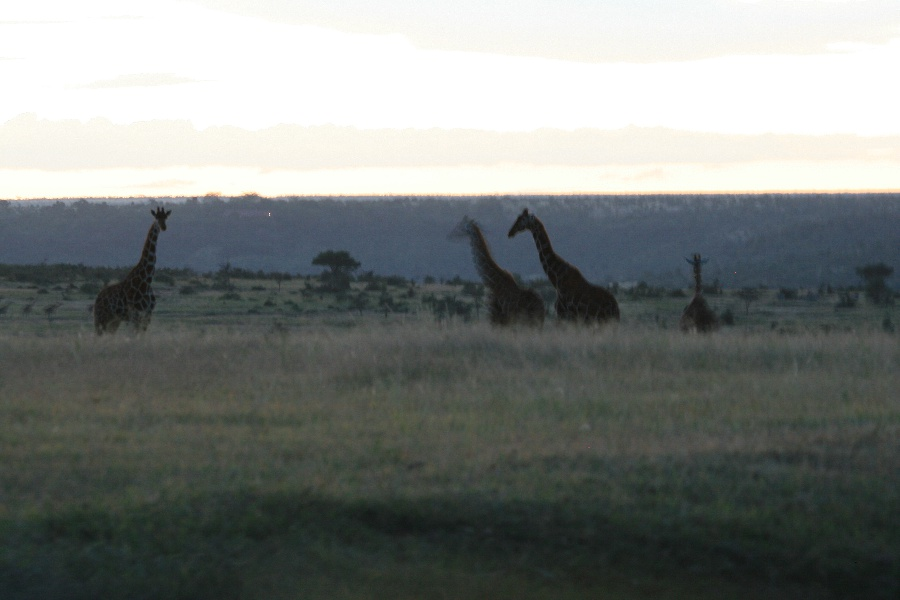giraffe: (508, 203, 626, 339), (444, 205, 544, 334), (87, 199, 176, 343), (671, 244, 721, 343)
